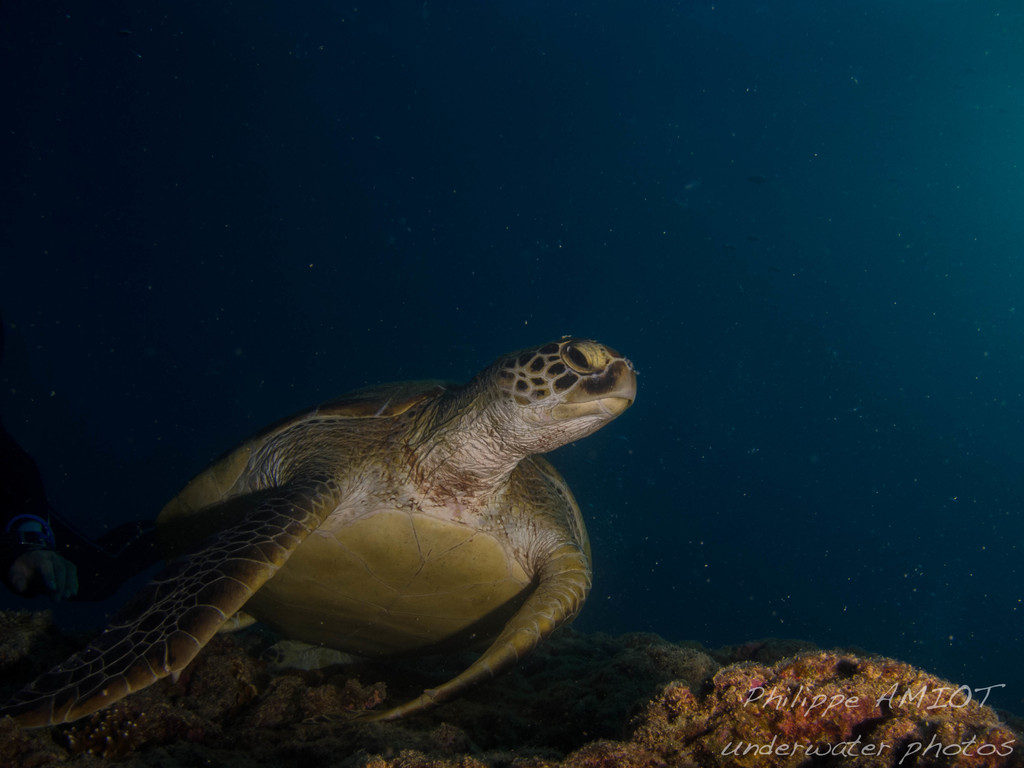Sea turtles: (0, 336, 643, 730)
